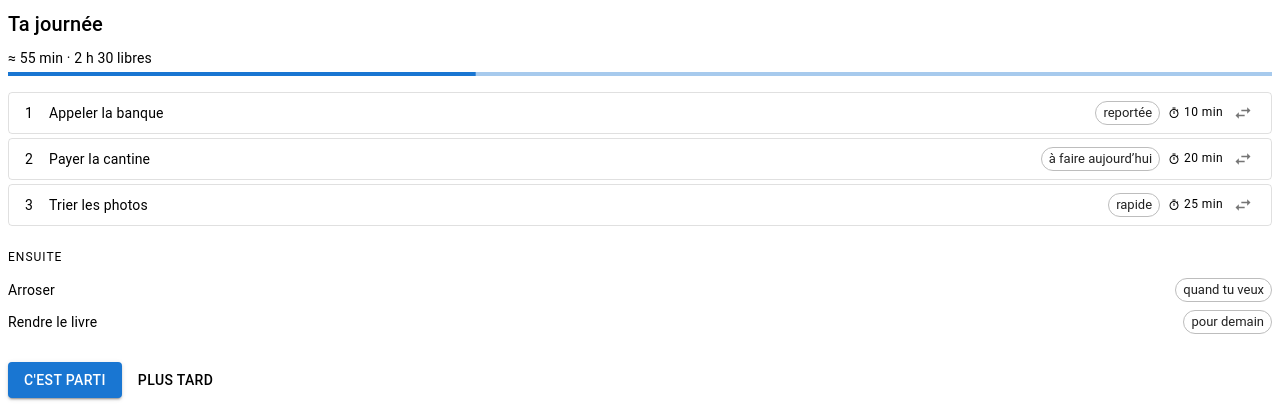
Test: TaskMorning — « Ta journée » (MAG-498) › swapping the 2nd takes the 1st of the reserve and sends the old one back, in one gesture
Click the button named "Échanger Payer la cantine": [1243, 159] box [1228,144,1258,174]
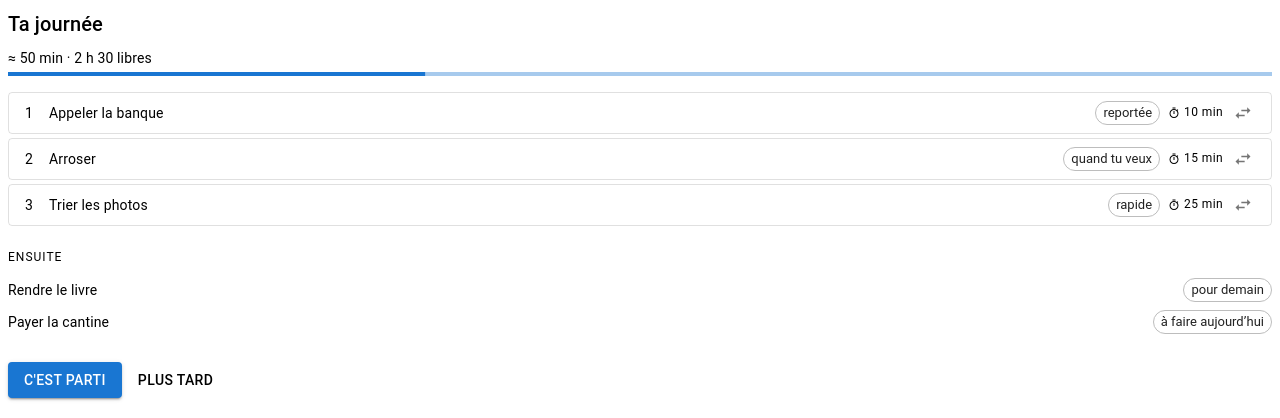
Expected: the list item "2 Arroser quand tu veux 15 min" is shown, [8,138,1272,180]
Expected: the list named "Ensuite" shows "Payer la cantine", [8,314,109,330]
Expected: the text "≈ 50 min · 2 h 30 libres" is shown, [8,50,152,66]
